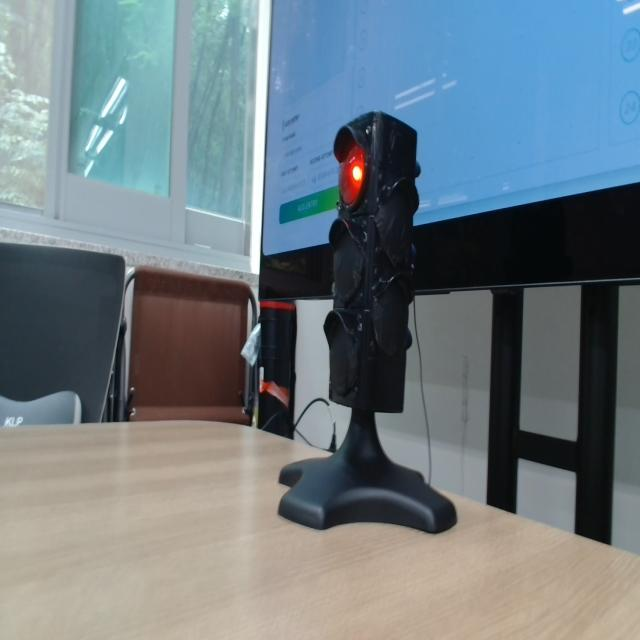red_light: (339, 142, 365, 206)
